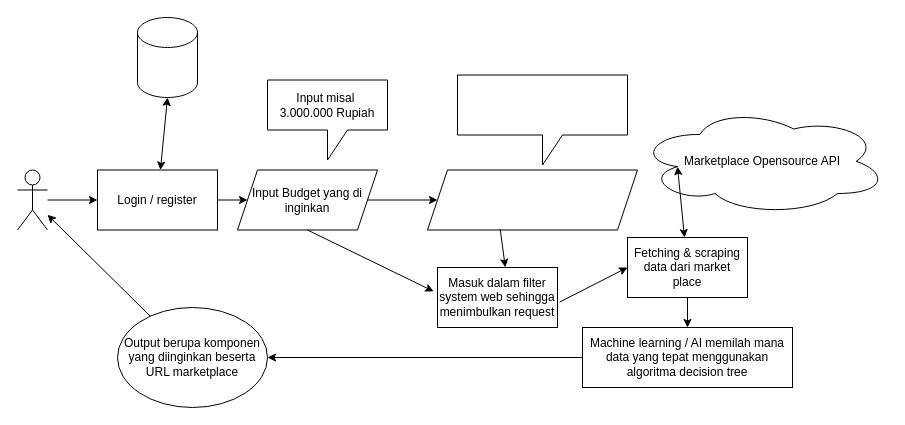
The diagram is 905 pixels wide and 425 high, and some of its shapes have lost their labels. Here are the shapes that lost their labels. From the top down, the centre of each, then its label:
(167,57): database
(542,119): memilih opsi kebutuhan yang tersedia seperti gaming, rendering, dll
(32,199): User
(532,199): Memilih preferensi kebutuhan
